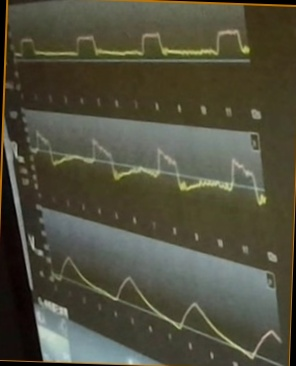Accumulation Flow: (30, 126, 267, 208)
Volume: (52, 251, 280, 359)
